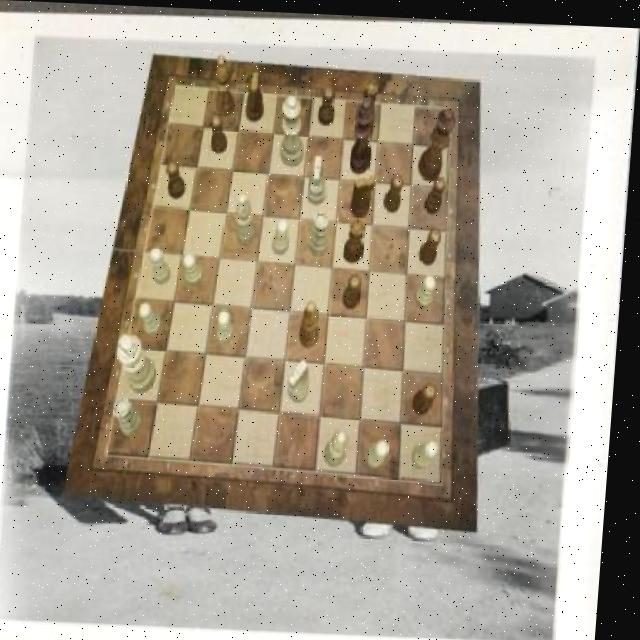bishop: (215, 54, 239, 114), (304, 299, 326, 346)
black-bishop: (352, 92, 379, 172)
black-king: (353, 171, 378, 214), (247, 69, 268, 120)
black-knight: (421, 224, 444, 263), (167, 158, 190, 197), (210, 112, 231, 153), (427, 173, 449, 211), (418, 380, 443, 413), (387, 171, 407, 209), (346, 269, 366, 305), (320, 84, 338, 123)
black-pawn: (420, 103, 458, 178)
black-queen: (358, 76, 381, 125), (347, 214, 370, 260)
black-rook: (237, 190, 261, 243), (331, 426, 356, 465)
white-bishop: (119, 332, 163, 394)
white-king: (309, 154, 331, 203), (294, 356, 317, 399)
white-knight: (152, 245, 176, 283), (142, 301, 168, 336), (420, 436, 446, 467), (420, 271, 442, 306), (187, 252, 209, 286), (275, 216, 294, 253), (372, 437, 397, 465), (221, 307, 240, 342)
white-pawn: (280, 93, 309, 163)
white-queen: (118, 396, 150, 435), (312, 208, 335, 254)
